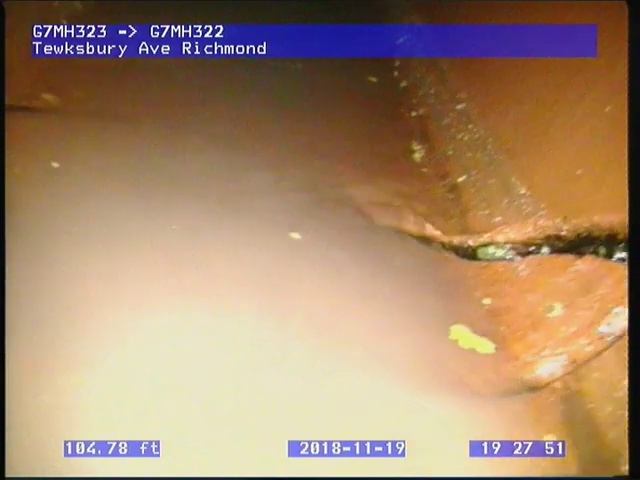crack: (399, 212, 627, 272)
